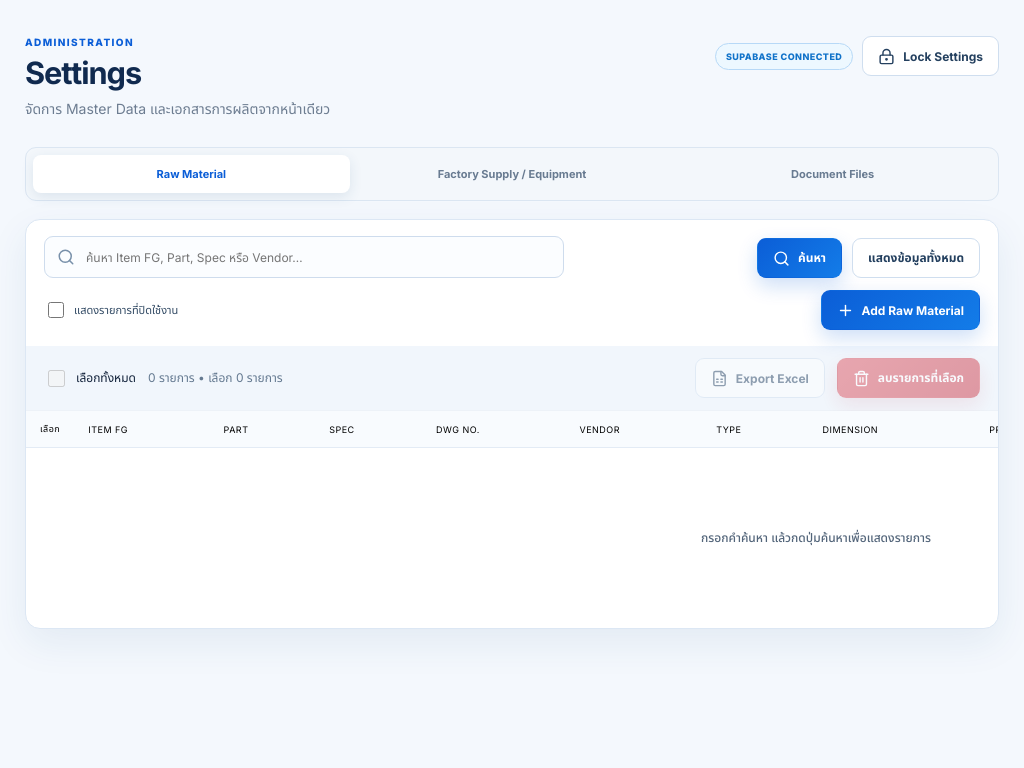
Settings document search › reports a failed full load without presenting partial rows
This screenshot has width=1024, height=768.
Click the button "แสดงข้อมูลทั้งหมด" at coordinates (916, 258), box [852, 238, 980, 278]
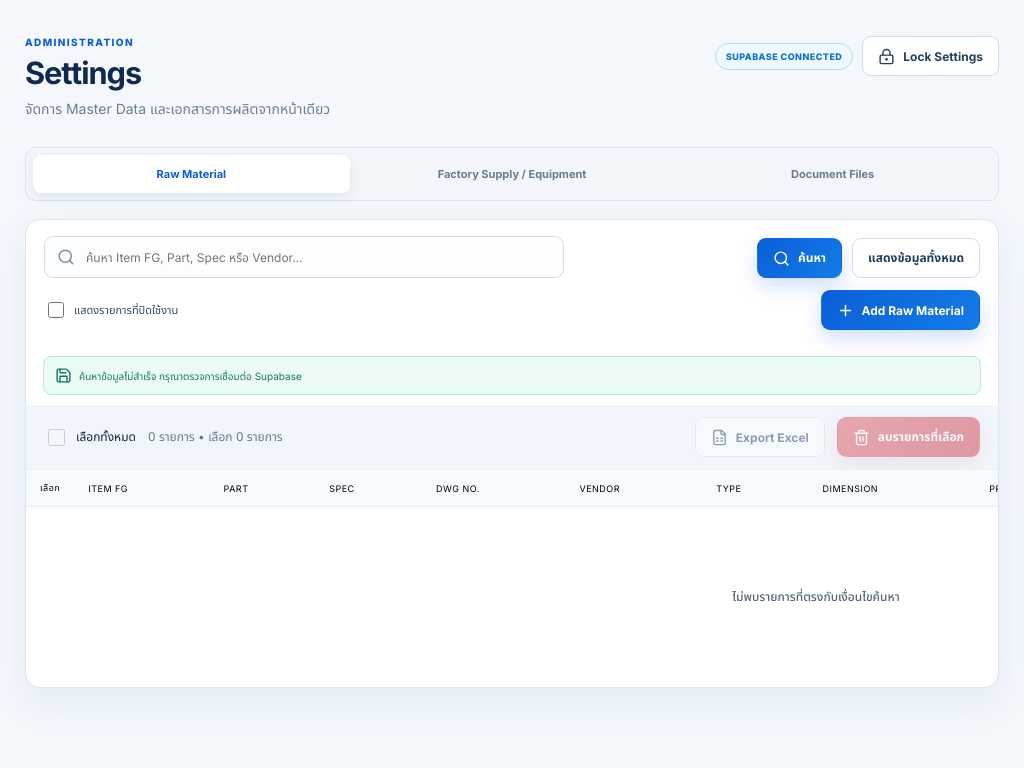
expect the button "ลบรายการที่เลือก" is disabled: met, box [837, 417, 980, 457]
expect the text "ค้นหาข้อมูลไม่สำเร็จ กรุณาตรวจการเชื่อมต่อ Supabase" is shown: met, box [43, 356, 981, 395]
